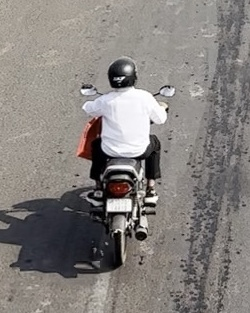BikeWithRider: (72, 52, 182, 266)
Helmet: (106, 54, 142, 94)
